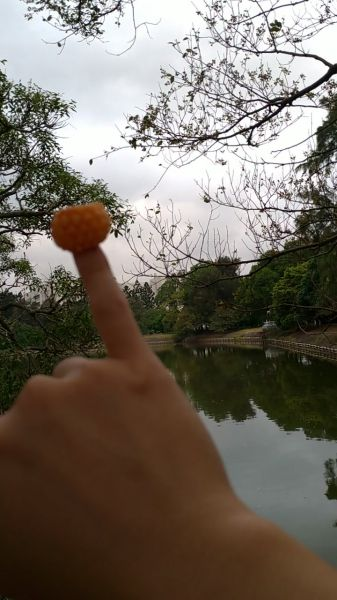eggs: (50, 203, 112, 252)
